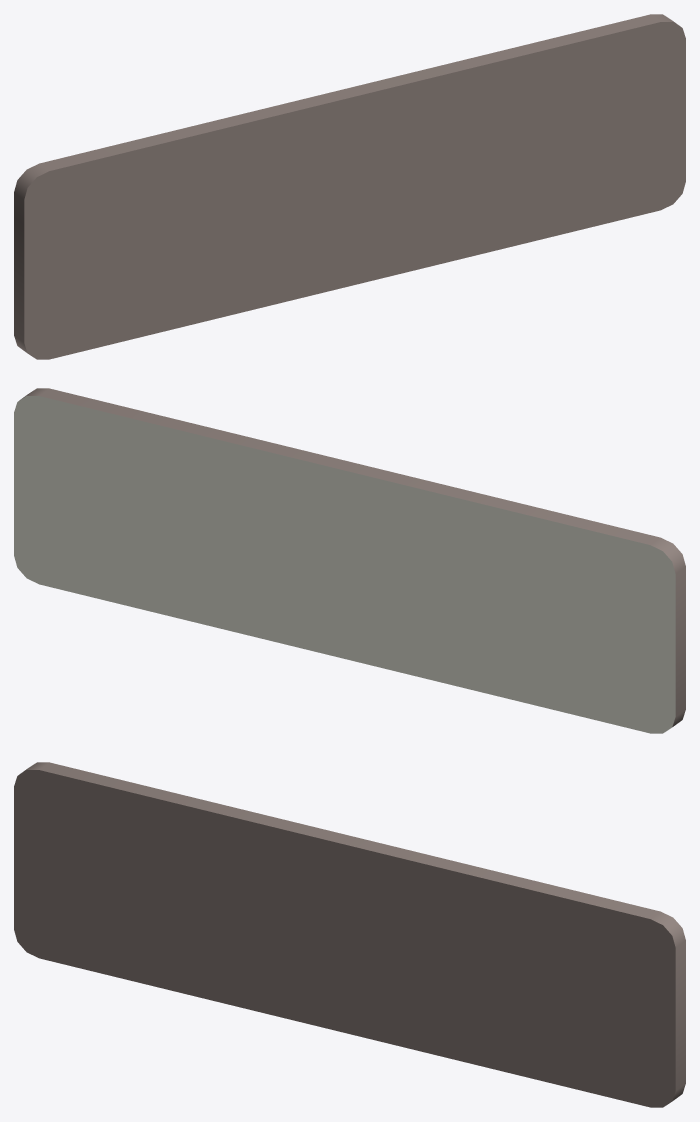
File: small_card.glb
The picture shows the model from 3 angles, top to bottom: view 1: azimuth 30°, elevation 25°; view 2: azimuth 150°, elevation 25°; view 3: azimuth 330°, elevation 25°; orthographic projection.
Visible parts, largest first — view 1: collection_card; view 2: collection_card; view 3: collection_card.
Part boxes in pixels (x1,y1,x2,y2): collection_card: [14, 14, 685, 359]; collection_card: [14, 388, 685, 733]; collection_card: [14, 762, 685, 1107].
Bounding box in the file's own units: 1.17 × 0.3175 × 0.0316.
1 material, 1 textured.
